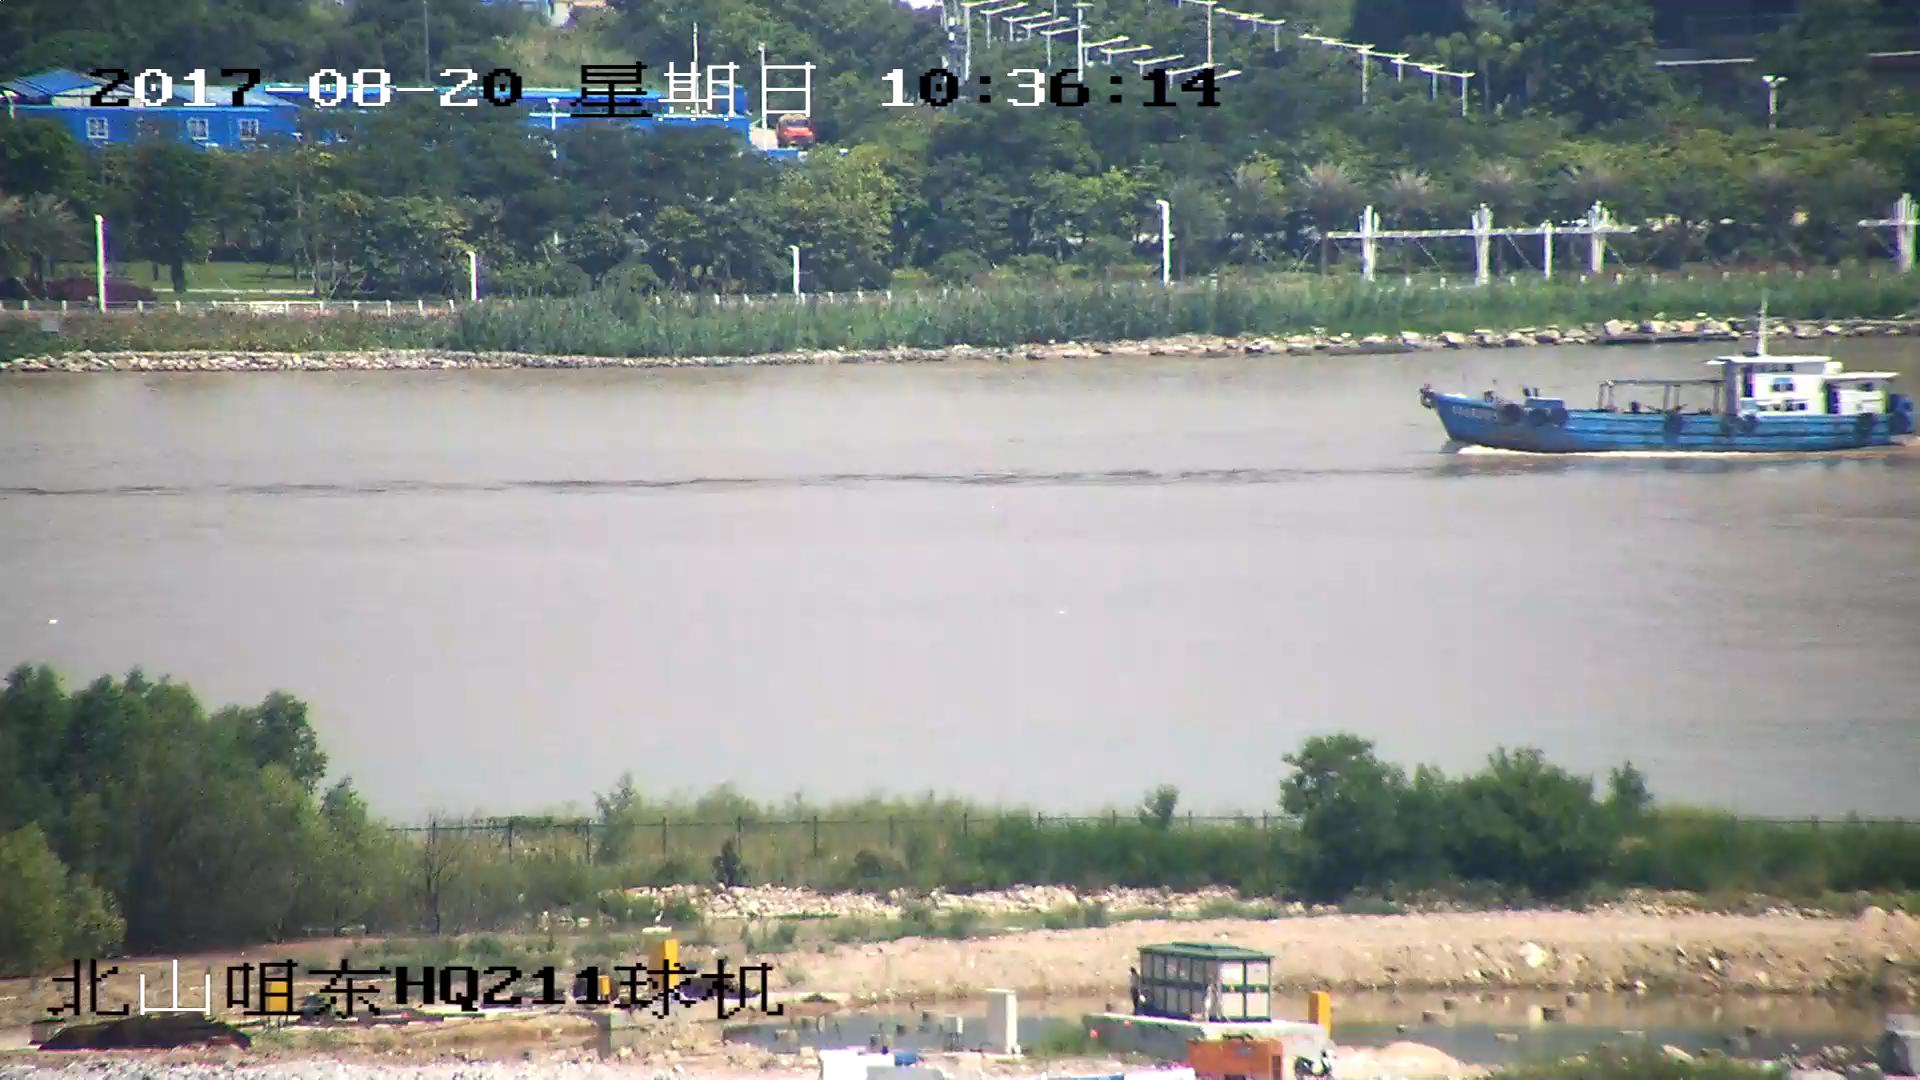fishing boat: (1422, 297, 1908, 451)
